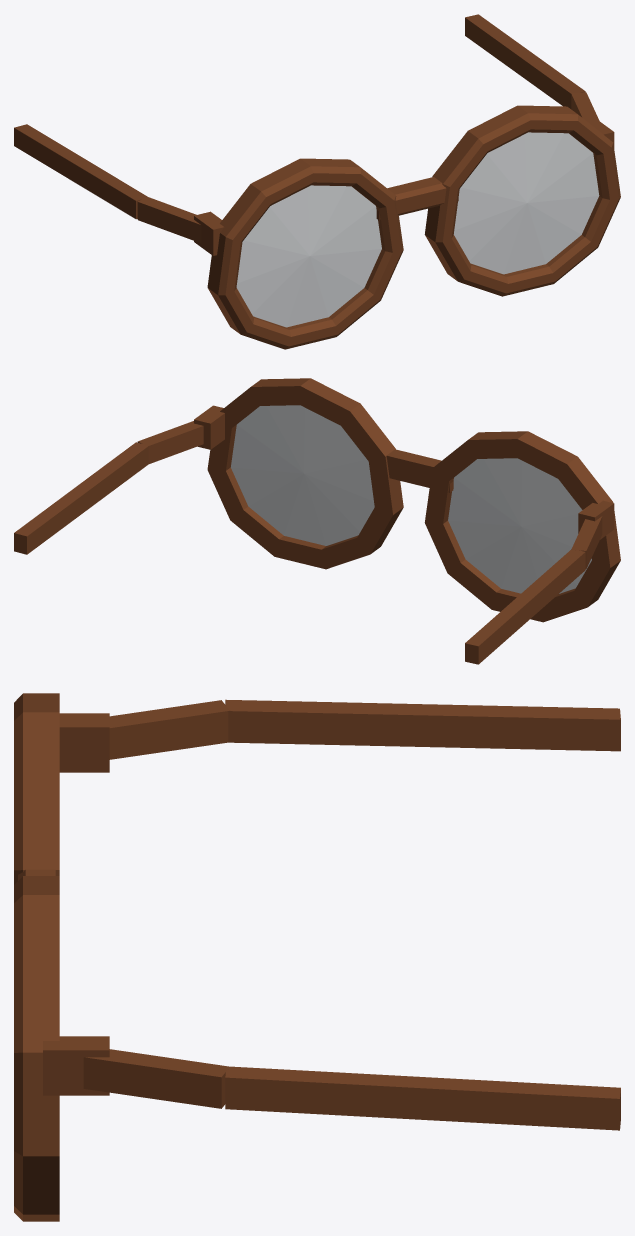
File: Brown_Intellectual_Glasses.fbx
The picture shows the model from 3 angles, top to bottom: view 1: azimuth 30°, elevation 25°; view 2: azimuth 150°, elevation 25°; view 3: azimuth 270°, elevation 25°; orthographic projection. The views are drawn at different scales.
Visible parts, largest first — view 1: Brown_Intellectual_Glasses; view 2: Brown_Intellectual_Glasses; view 3: Brown_Intellectual_Glasses.
Boxes of the visible parts, box(x1,y1,x2,y2) form: Brown_Intellectual_Glasses: box(14, 14, 620, 349); Brown_Intellectual_Glasses: box(14, 378, 620, 664); Brown_Intellectual_Glasses: box(14, 693, 620, 1221).
Bounding box in the file's own units: 0.2224 × 0.081 × 0.1461.
